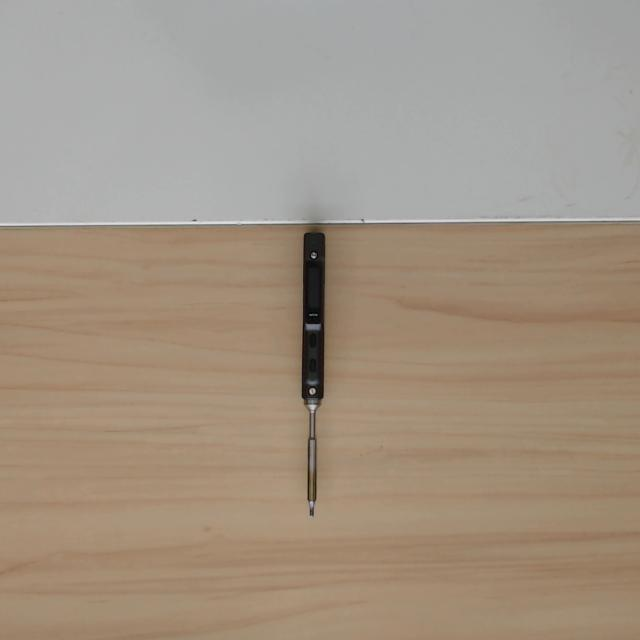Soldering-Iron: (300, 231, 326, 518)
